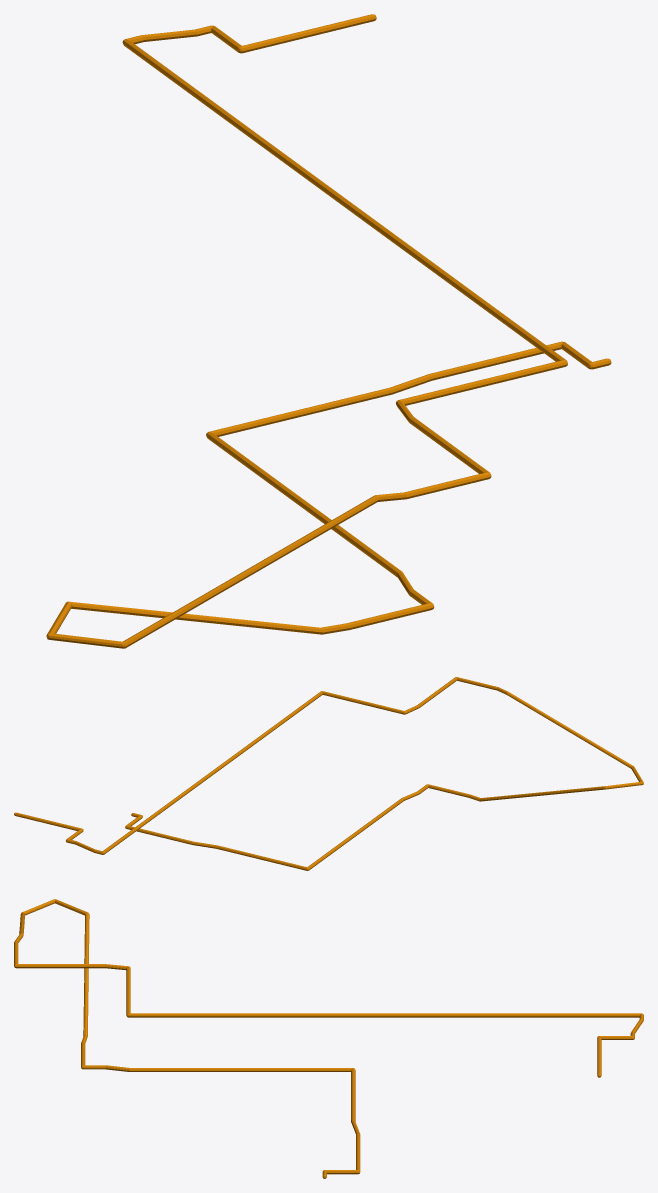
3 renders of one model, top to bottom at view 1: azimuth 30°, elevation 25°; view 2: azimuth 150°, elevation 25°; view 3: azimuth 270°, elevation 25°, orthographic. The views are drawn at different scales.
Size of the model in its own units: 2408 by 520 by 2824.
